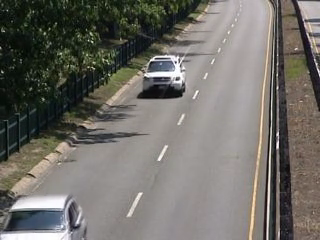car: (1, 192, 90, 240), (140, 51, 188, 101)
